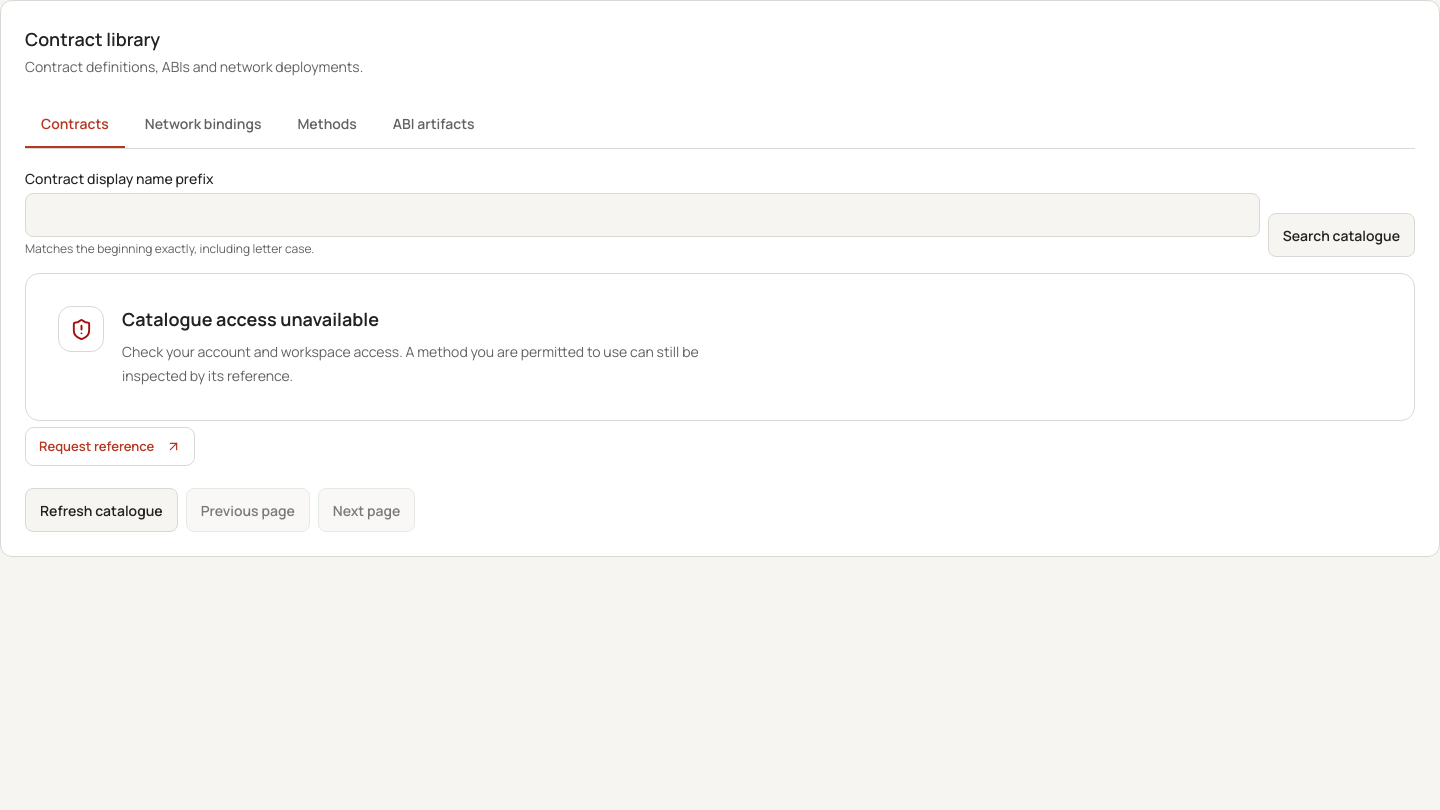
does not label denied or degraded reads as empty: 403
This screenshot has width=1440, height=810.
expect the message shows "Catalogue access unavailable": met, box [122,307,379,331]
expect the message does not show "No matching": met, box [25,273,1415,421]
Click the button "Request reference" at point(110, 447), box [25,427,195,466]
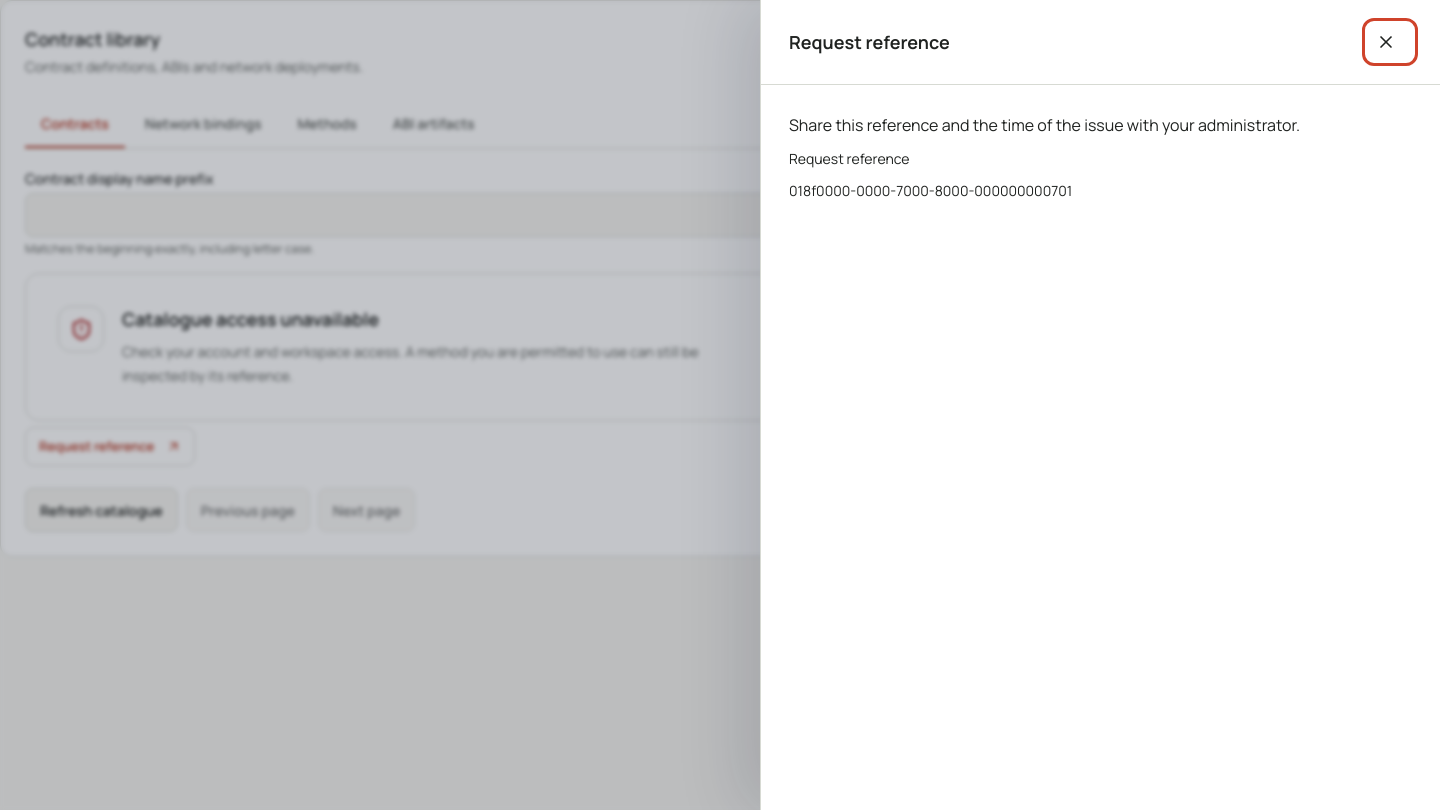
expect the dialog "Request reference" is shown: met, box [760,0,1439,809]
expect the text "018f0000-0000-7000-8000-000000000701" is shown: met, box [789,181,1072,200]
Click the button named "Close Request reference" at point(1390, 42), box [1368,24,1412,60]
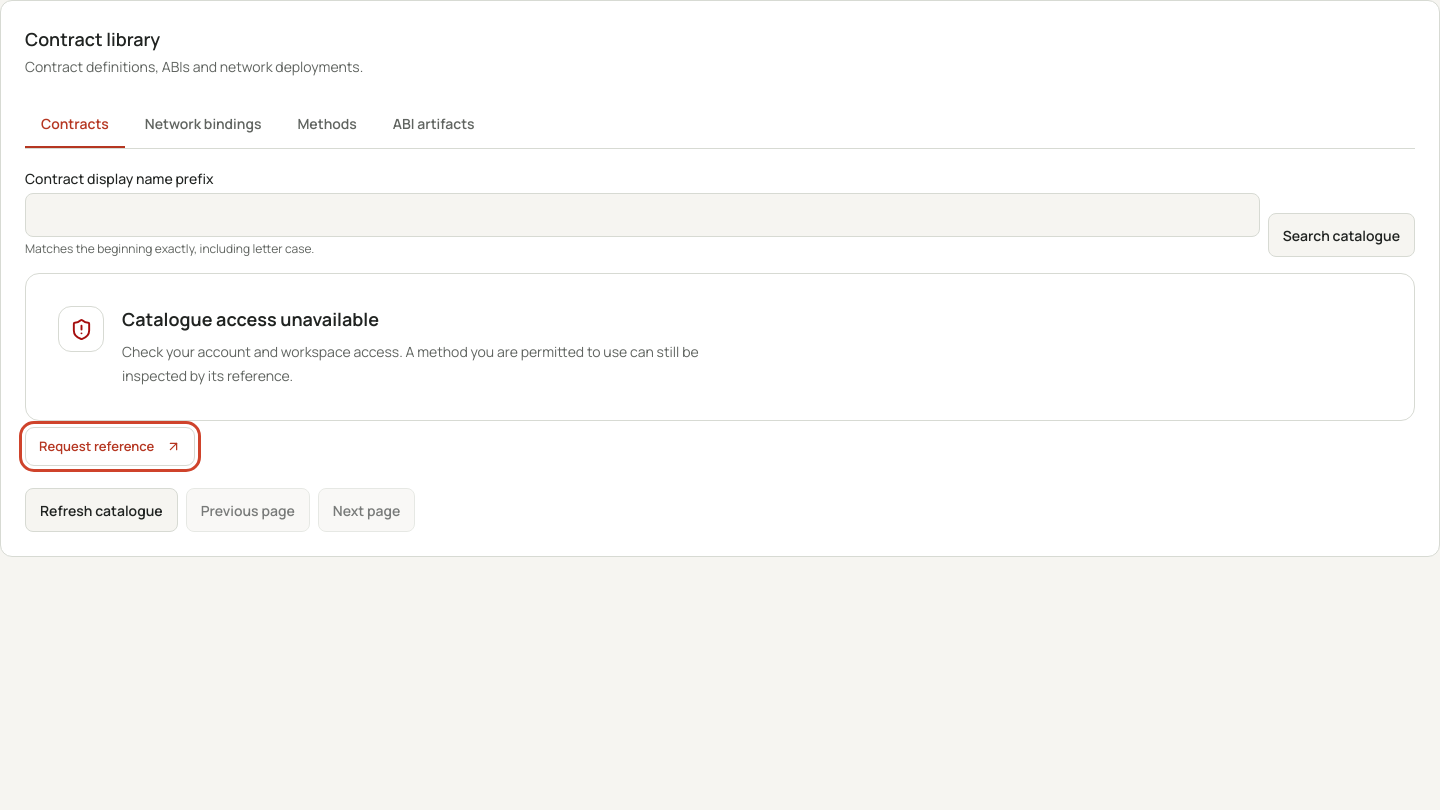
expect the text "018f0000-0000-7000-8000-000000000701" is gone: met
